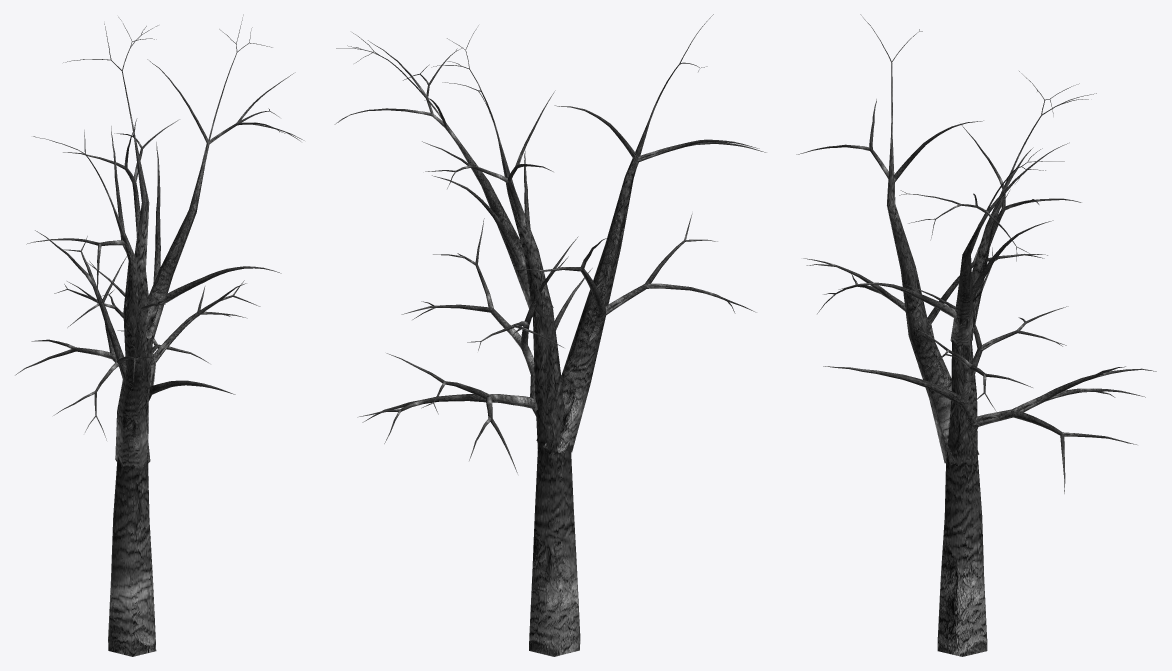
The model's file is tree4.fbx.
The picture shows the model from 3 angles, left to right: view 1: azimuth 30°, elevation 25°; view 2: azimuth 150°, elevation 25°; view 3: azimuth 270°, elevation 25°; orthographic projection. The views are drawn at different scales.
Visible parts, largest first — view 1: tree.002; view 2: tree.002; view 3: tree.002.
Boxes of the visible parts, x1,y1,x2,y2 form: tree.002: (15, 14, 304, 656); tree.002: (334, 14, 766, 656); tree.002: (796, 14, 1156, 656).
Bounding box in the file's own units: 917 × 1588 × 872.
1 material, 1 textured.
